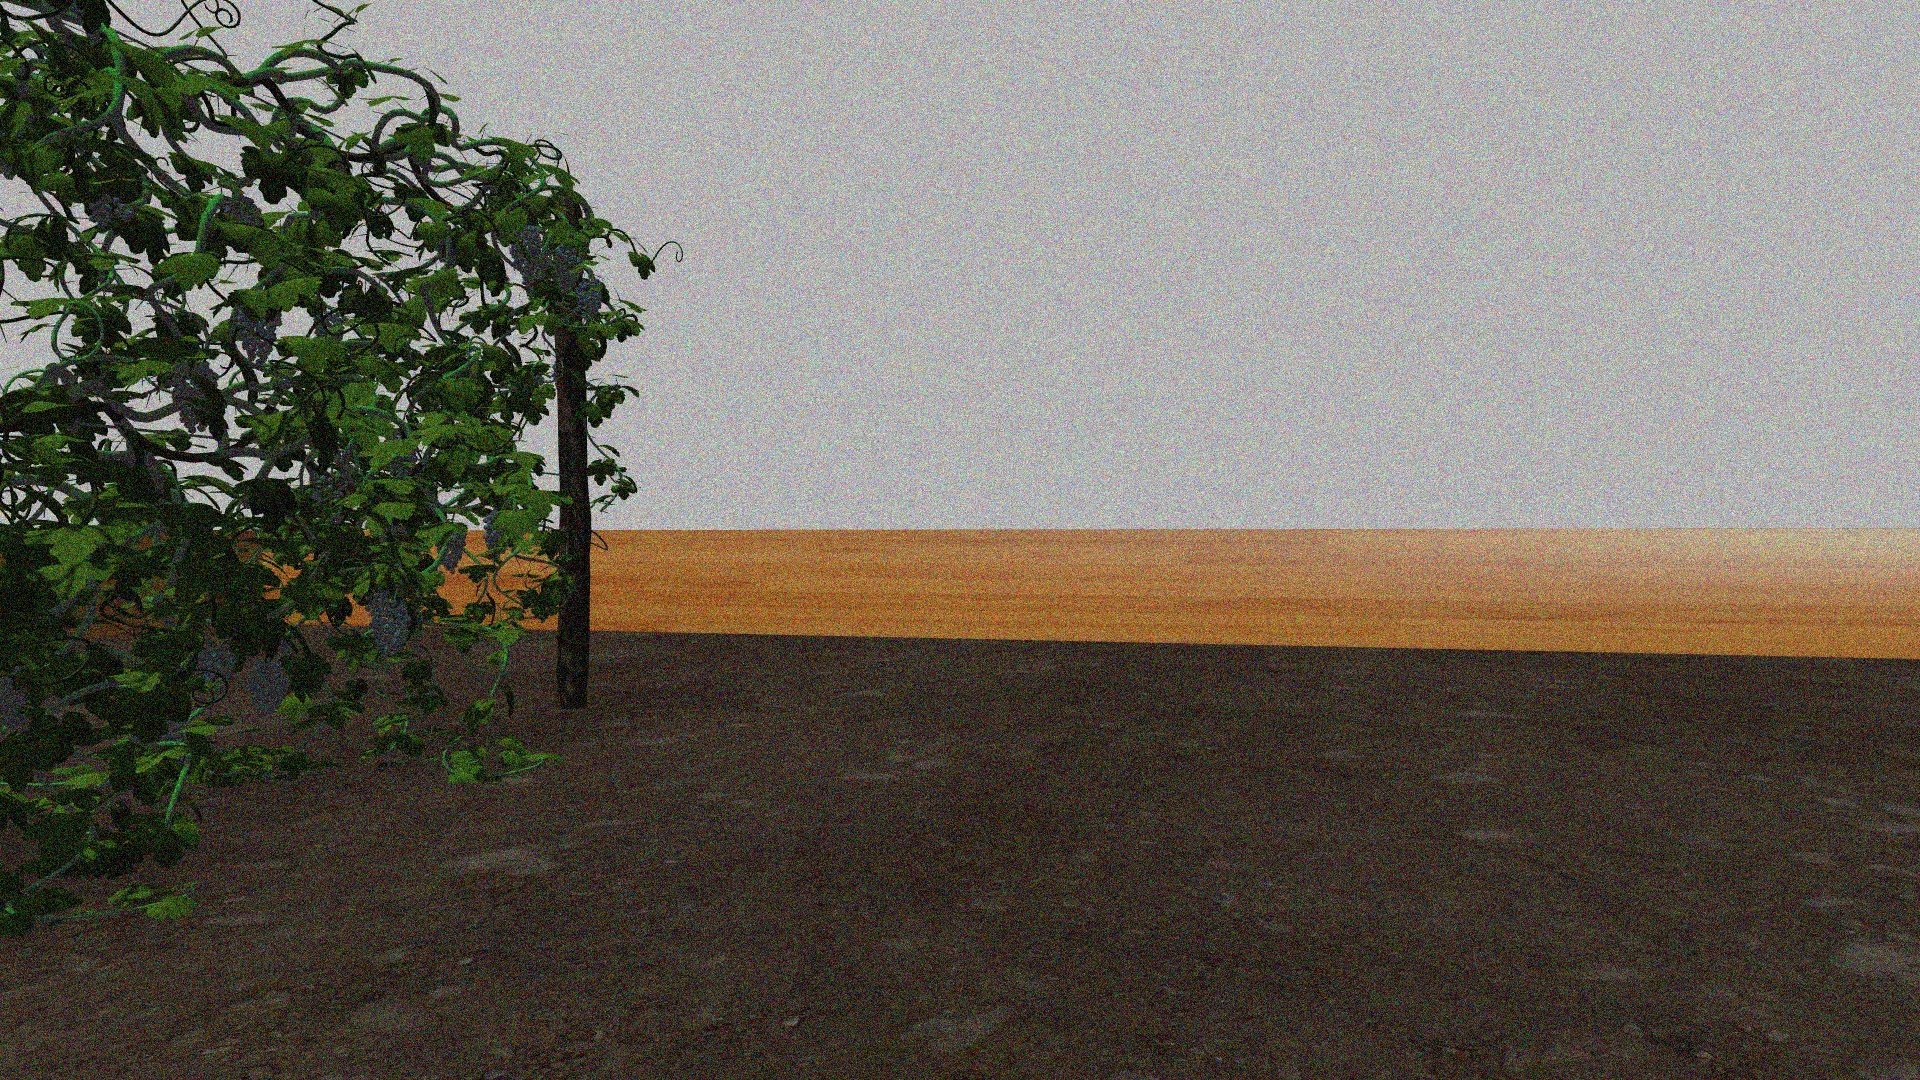grape: (171, 363, 218, 434), (368, 591, 411, 659), (232, 302, 280, 363), (247, 659, 291, 717), (196, 645, 237, 694), (86, 195, 136, 227), (509, 225, 542, 272), (436, 522, 465, 572), (553, 245, 583, 291), (576, 281, 604, 315), (483, 514, 504, 550)
